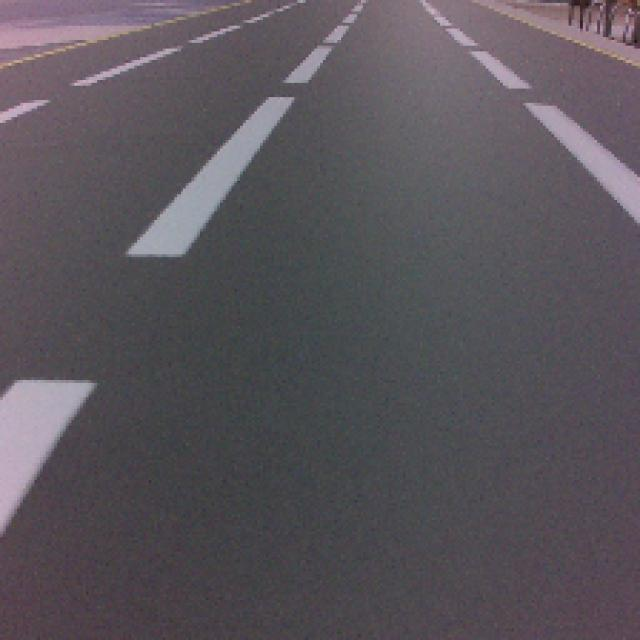Road: (0, 222, 635, 534)
